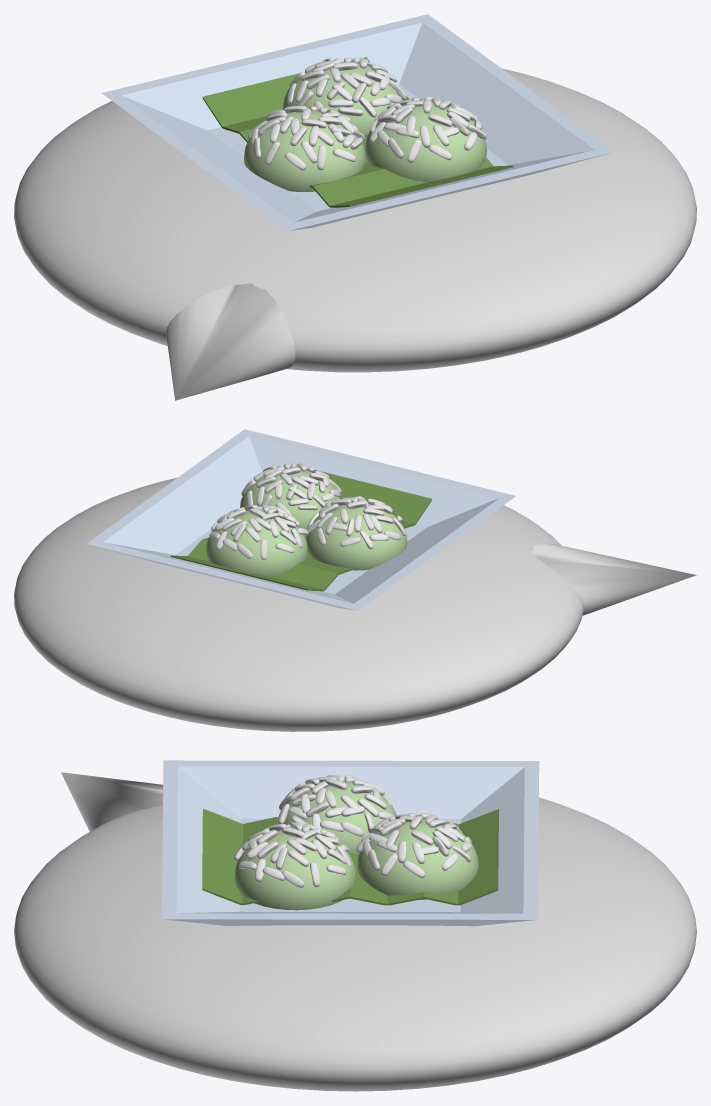
Rendered from ondehreq3.fbx.
3 views of the same model, one above another, from view 1: azimuth 30°, elevation 25°; view 2: azimuth 150°, elevation 25°; view 3: azimuth 270°, elevation 25° (orthographic). The views are drawn at different scales.
Parts seen in each view (by area): view 1: Sphere.001, Cube.002, Cone, Cube.036, Sphere.047, Sphere.045, Sphere.068, Sphere.046, Sphere.048, Sphere.044; view 2: Sphere.001, Cube.002, Cone, Cube.036, Sphere.045, Sphere.044, Sphere.068, Sphere.048, Sphere.046, Sphere.047; view 3: Sphere.001, Cube.002, Cube.036, Sphere.047, Sphere.044, Sphere.048, Sphere.046, Sphere.068, Cone, Sphere.045.
Part boxes in pixels (x1,y1,x2,y2): Sphere.001: (14, 68, 696, 372); Cube.002: (102, 14, 614, 230); Cone: (166, 283, 295, 400); Cube.036: (202, 57, 513, 207); Sphere.047: (365, 102, 486, 181); Sphere.045: (244, 110, 365, 191); Sphere.068: (287, 57, 406, 117); Sphere.046: (248, 105, 365, 170); Sphere.048: (369, 96, 486, 162); Sphere.044: (282, 61, 403, 135); Sphere.001: (14, 477, 584, 731); Cube.002: (87, 429, 515, 610); Cone: (531, 543, 696, 615); Cube.036: (170, 471, 431, 591); Sphere.045: (306, 504, 407, 570); Sphere.044: (206, 510, 307, 576); Sphere.068: (209, 505, 308, 559); Sphere.048: (241, 463, 341, 515); Sphere.046: (306, 496, 405, 549); Sphere.047: (240, 469, 339, 529); Sphere.001: (14, 797, 696, 1091); Cube.002: (162, 760, 539, 926); Cube.036: (202, 808, 498, 905); Sphere.047: (234, 829, 356, 910); Sphere.044: (357, 819, 478, 899); Sphere.048: (233, 822, 351, 887); Sphere.046: (277, 775, 393, 836); Sphere.068: (356, 813, 472, 878); Cone: (61, 772, 162, 831); Sphere.045: (277, 780, 396, 853).
Bounding box in the file's own units: 339 × 99.33 × 322.
